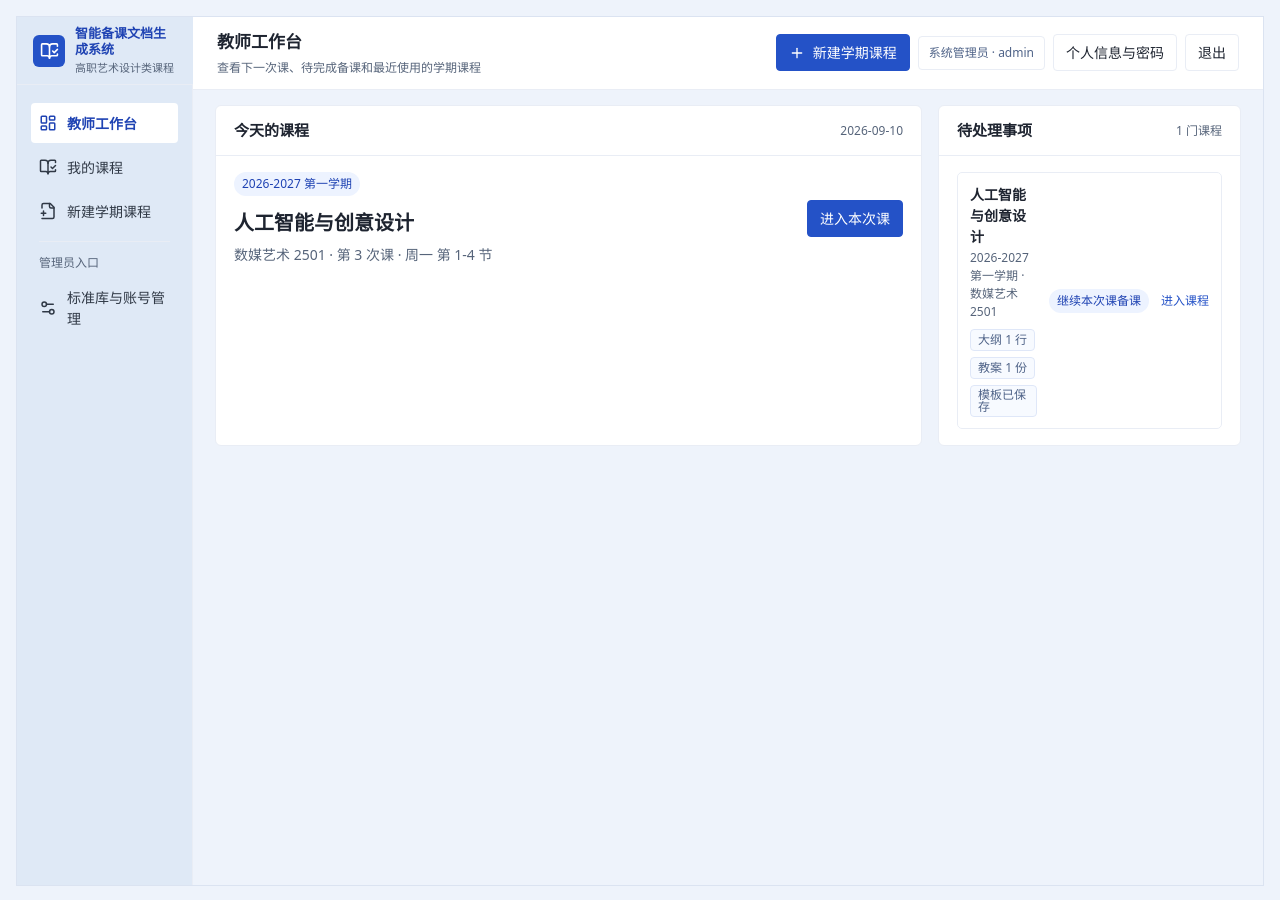
it: App › lets an admin reset a teacher password
Click the button "标准库与账号管理": (104, 308) [31, 278, 178, 338]
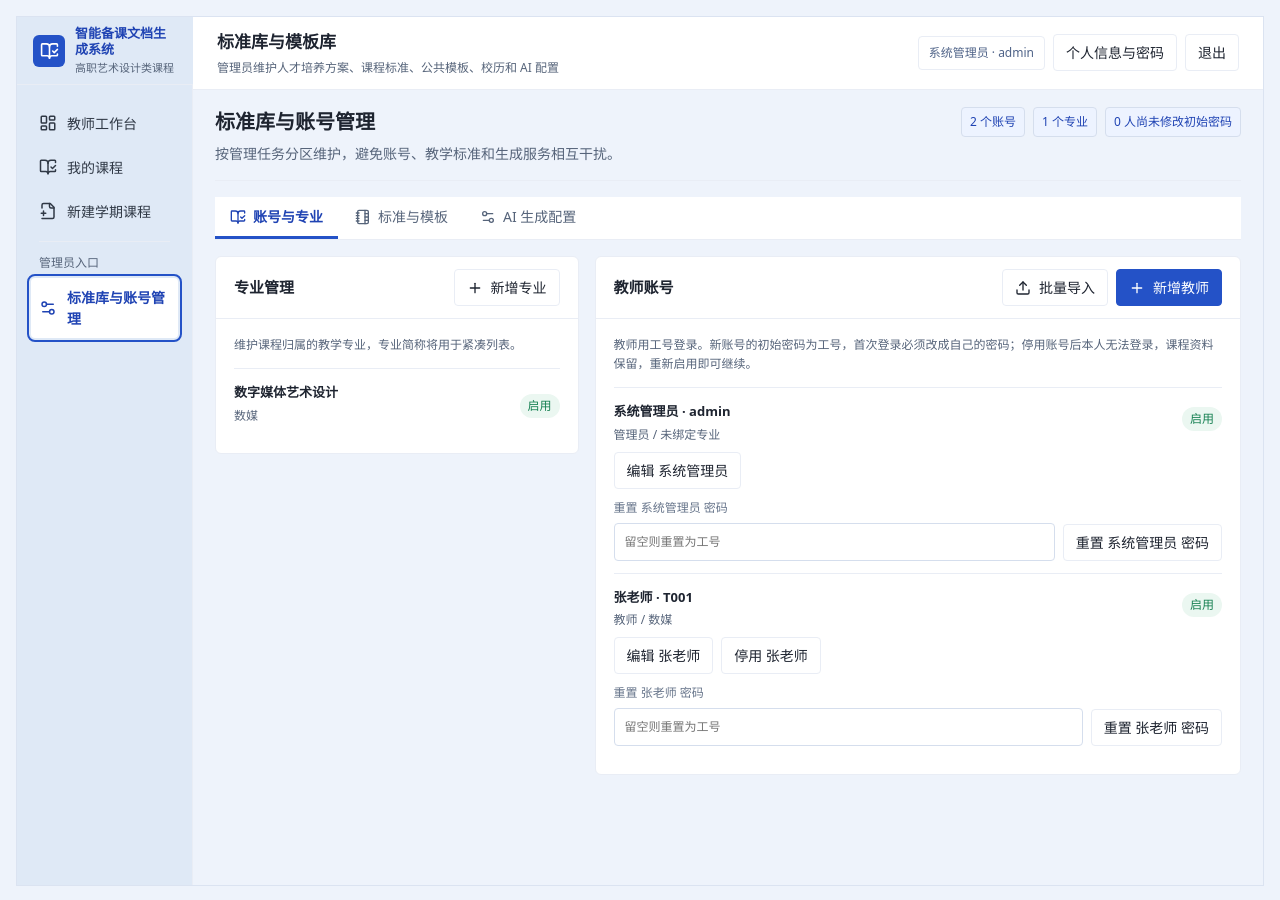
In the password field labelled "重置 张老师 密码": (848, 727) [614, 708, 1083, 746], type "Reset@2026!"
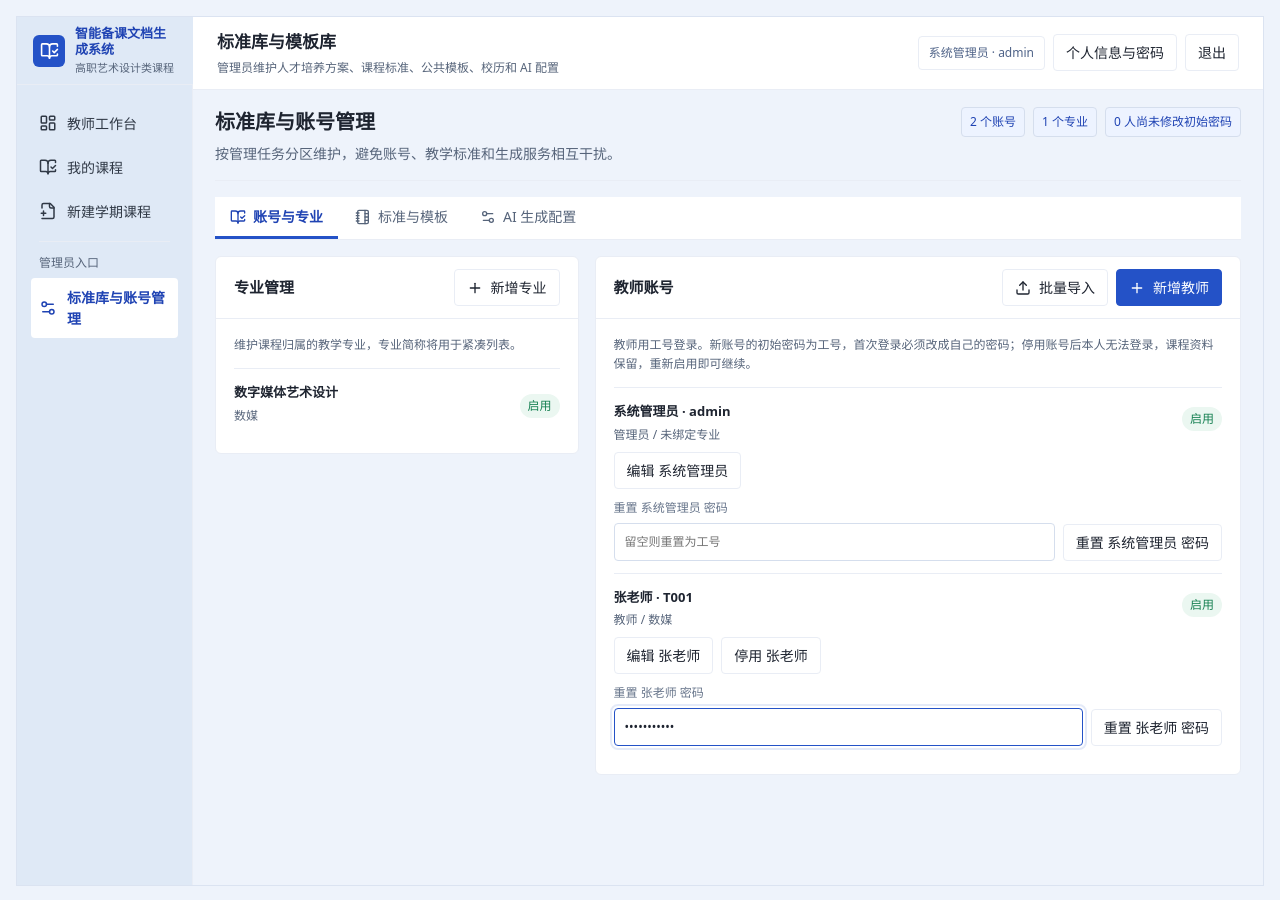
Click the button "重置 张老师 密码": (1156, 728) [1091, 709, 1222, 746]
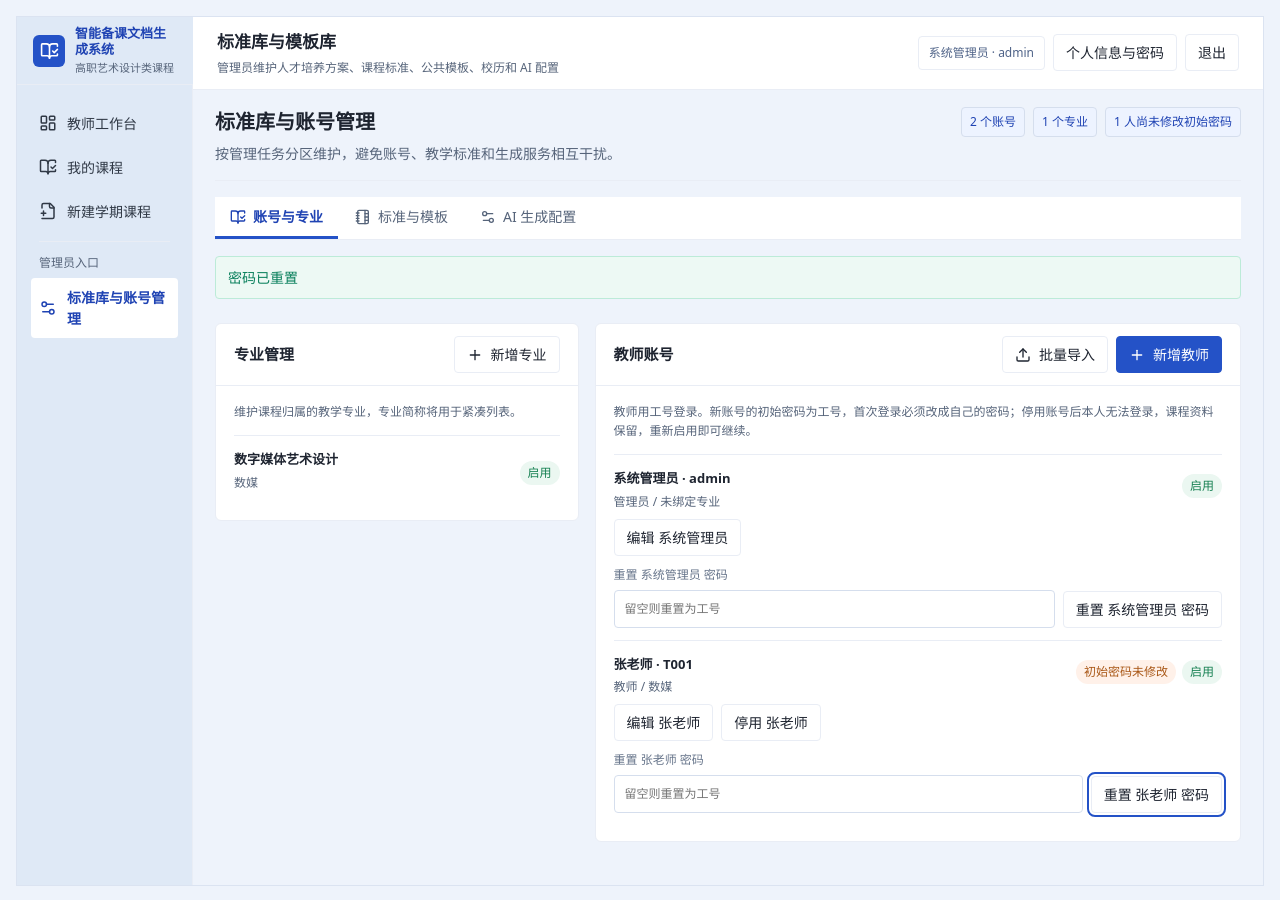
Now the text "密码已重置" is shown, box [215, 256, 1241, 299]
